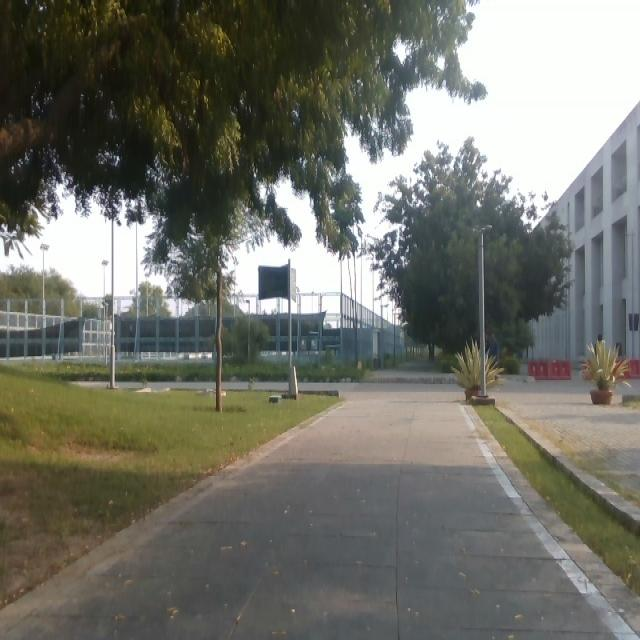lane: (27, 398, 616, 637)
